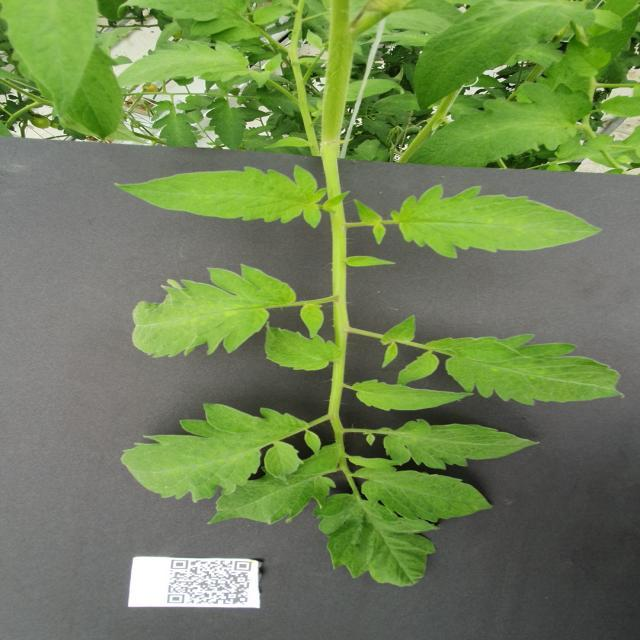Tomato healthy leaf: (413, 0, 596, 112), (121, 402, 322, 500), (408, 81, 594, 168), (130, 263, 296, 358), (425, 333, 627, 408), (113, 164, 328, 228), (316, 494, 440, 588), (0, 0, 98, 115), (376, 418, 544, 471), (353, 464, 494, 522), (64, 42, 129, 142), (206, 476, 335, 526), (119, 40, 252, 85), (353, 378, 475, 412), (262, 321, 342, 372), (564, 36, 612, 78), (205, 104, 248, 150), (453, 340, 532, 362), (151, 112, 199, 148), (396, 349, 440, 386), (189, 14, 241, 37), (379, 314, 416, 346), (298, 302, 326, 339), (600, 95, 640, 118)
